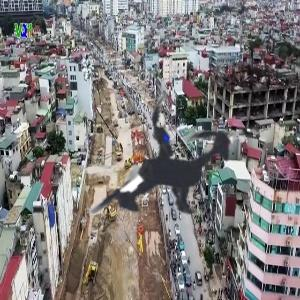drone: (30, 36, 294, 300)
